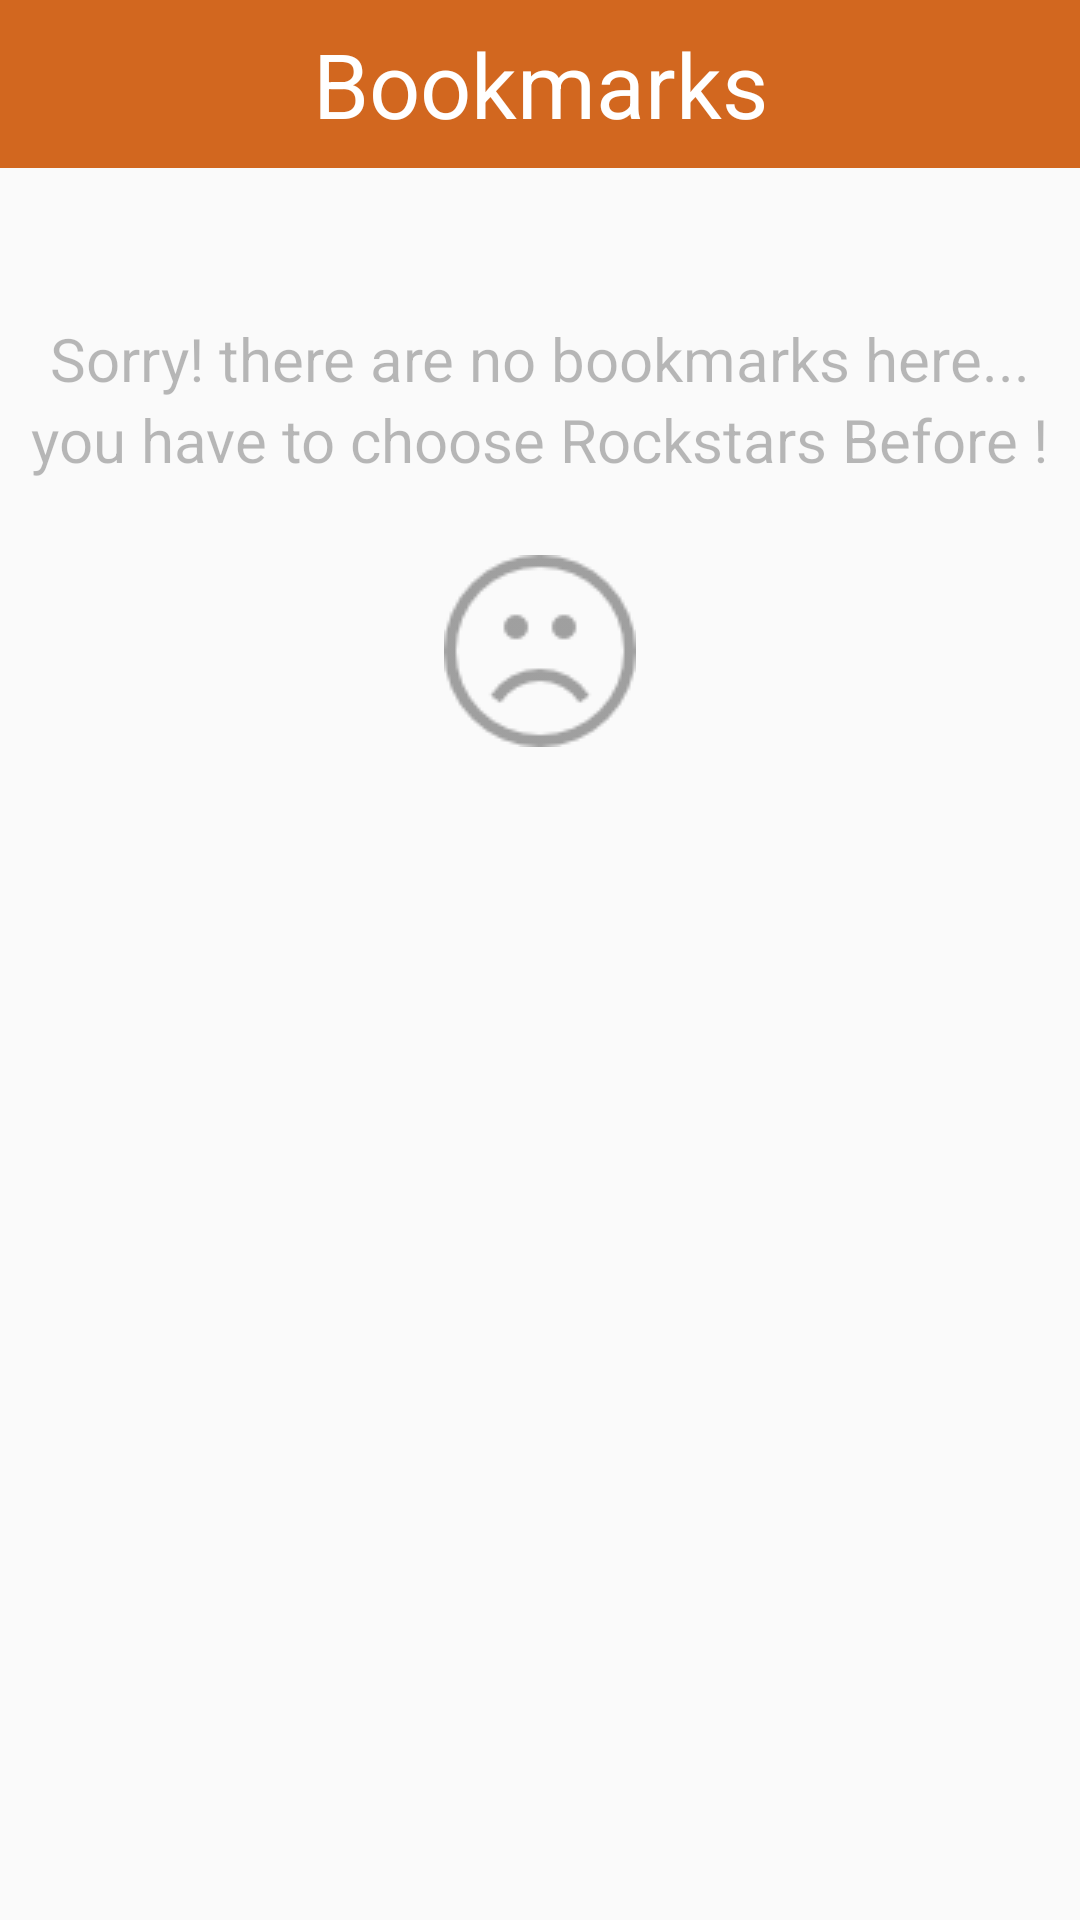

Icon bounding boxes for this 1080 x 1920 phone screenshot, format box(x1, y1, x2, y2):
sad: box(444, 555, 636, 747)
